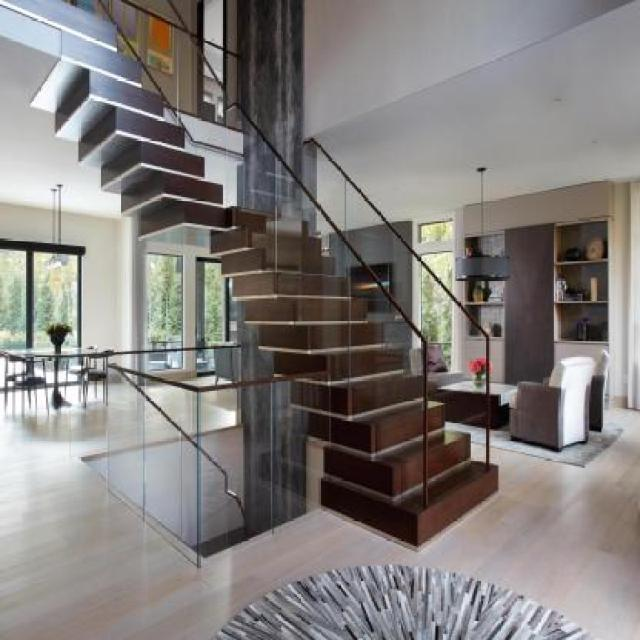stair: (182, 176, 518, 534)
